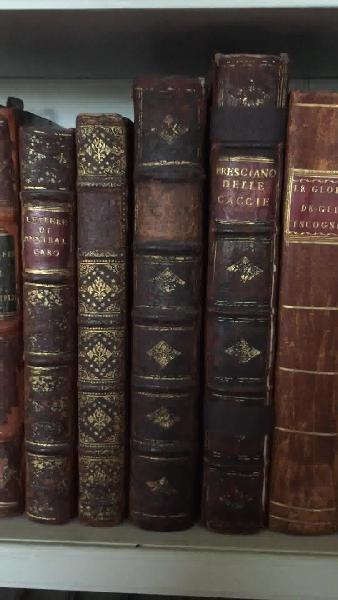Aa6-29: (14, 119, 74, 521)
Aa6-30: (77, 113, 129, 513)
Aa6-31: (133, 78, 200, 536)
Aa6-32: (197, 52, 287, 544)
Aa6-33: (267, 96, 338, 533)
